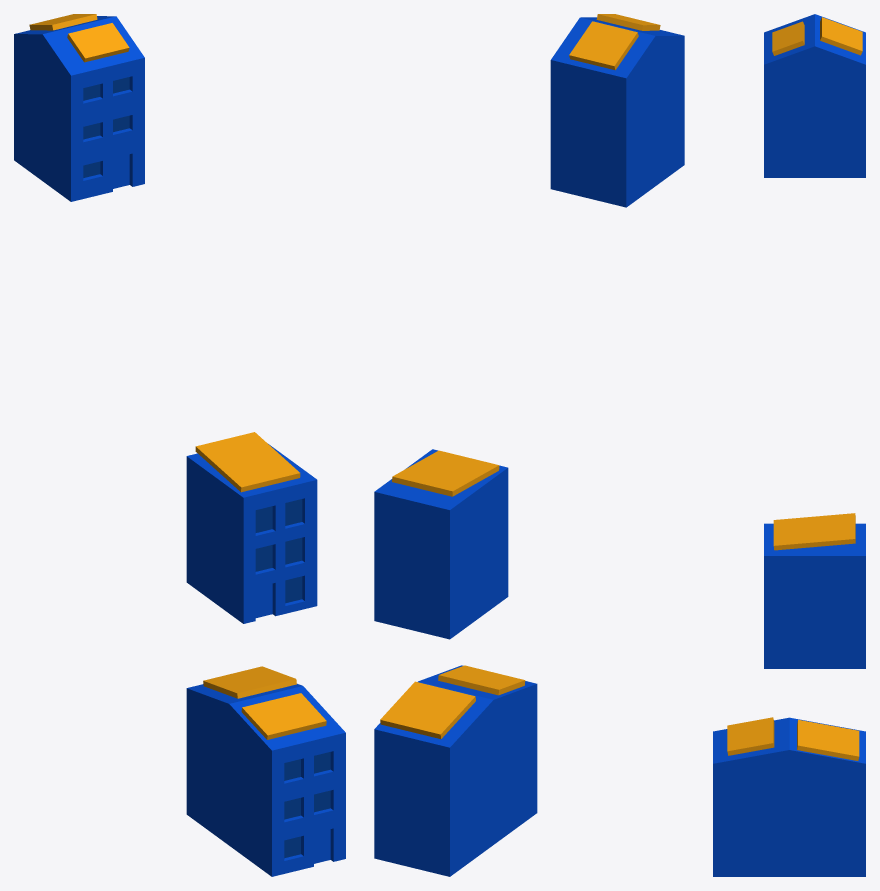
The model's file is BinaGrup4.gltf.
3 renders of one model, left to right at view 1: azimuth 30°, elevation 25°; view 2: azimuth 150°, elevation 25°; view 3: azimuth 270°, elevation 25°, orthographic. The views are drawn at different scales.
Visible parts, largest first — view 1: Building_080.017, Building_070.017, Building_079.017, Building_079_RoofCap_0.001, Building_080_RoofCap_0.001, Building_079.019, Building_080_RoofCap_1.001, Building_070_RoofCap_0.001, Building_080.019, Building_070.019, Building_070_RoofCap_1.001; view 2: Building_080.017, Building_070.017, Building_079.017, Building_080_RoofCap_1.001, Building_079_RoofCap_0.001, Building_070_RoofCap_1.001, Building_080_RoofCap_0.001, Building_070_RoofCap_0.001; view 3: Building_080.017, Building_070.017, Building_079.017, Building_079_RoofCap_0.001, Building_080_RoofCap_1.001, Building_080_RoofCap_0.001, Building_070_RoofCap_1.001, Building_070_RoofCap_0.001.
Boxes of the visible parts, x1,y1,x2,y2 form: Building_080.017: (186,683,345,876); Building_070.017: (14,16,144,201); Building_079.017: (186,444,317,623); Building_079_RoofCap_0.001: (195,432,300,492); Building_080_RoofCap_0.001: (241,693,326,739); Building_079.019: (255,499,302,603); Building_080_RoofCap_1.001: (203,666,296,698); Building_070_RoofCap_0.001: (67,23,129,62); Building_080.019: (284,752,330,858); Building_070.019: (83,77,129,177); Building_070_RoofCap_1.001: (29,14,97,30); Building_080.017: (374,665,537,876); Building_070.017: (550,17,684,207); Building_079.017: (374,449,508,639); Building_080_RoofCap_1.001: (380,681,475,738); Building_079_RoofCap_0.001: (392,450,499,496); Building_070_RoofCap_1.001: (569,21,638,70); Building_080_RoofCap_0.001: (438,665,525,695); Building_070_RoofCap_0.001: (596,14,660,30); Building_080.017: (713,717,865,876); Building_070.017: (764,14,865,177); Building_079.017: (764,523,865,668); Building_079_RoofCap_0.001: (773,513,855,550); Building_080_RoofCap_1.001: (797,719,859,760); Building_080_RoofCap_0.001: (727,717,774,755); Building_070_RoofCap_1.001: (820,17,862,55); Building_070_RoofCap_0.001: (772,21,804,55).
Size of the model in its own units: 0.1087 by 0.3568 by 0.0652.
